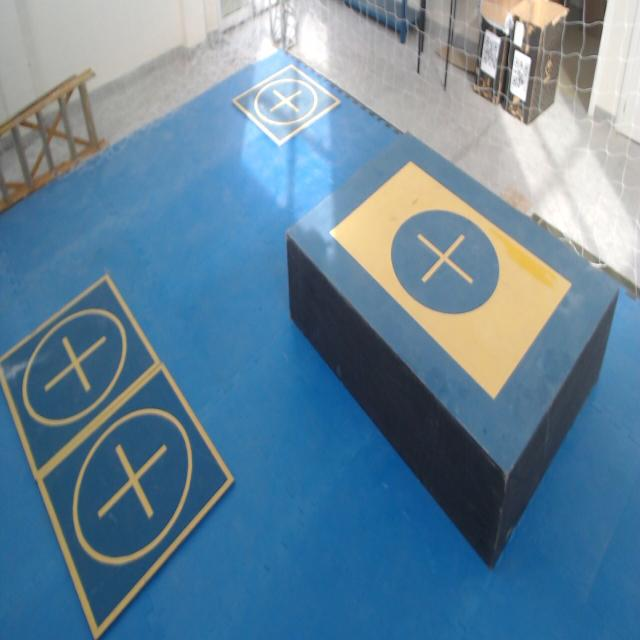base_inicio: (328, 162, 572, 399)
base_pouso: (36, 360, 235, 639), (0, 269, 162, 480), (232, 64, 342, 148)
